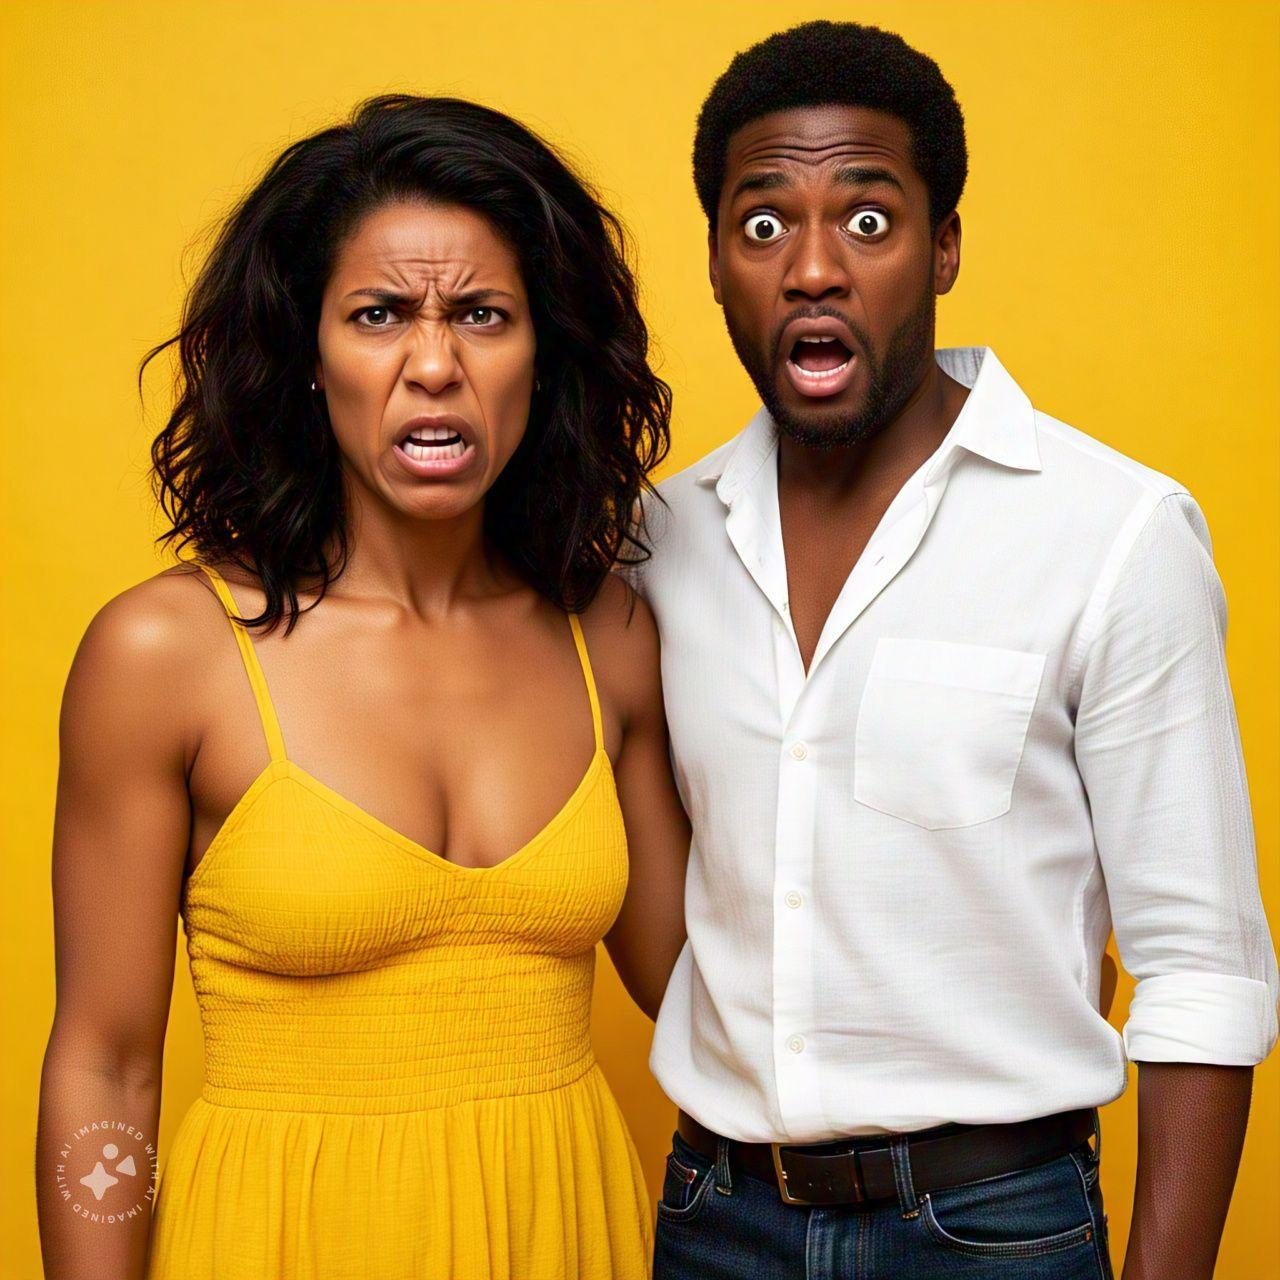raiva: (306, 166, 546, 515)
surpreso: (706, 90, 962, 422)
